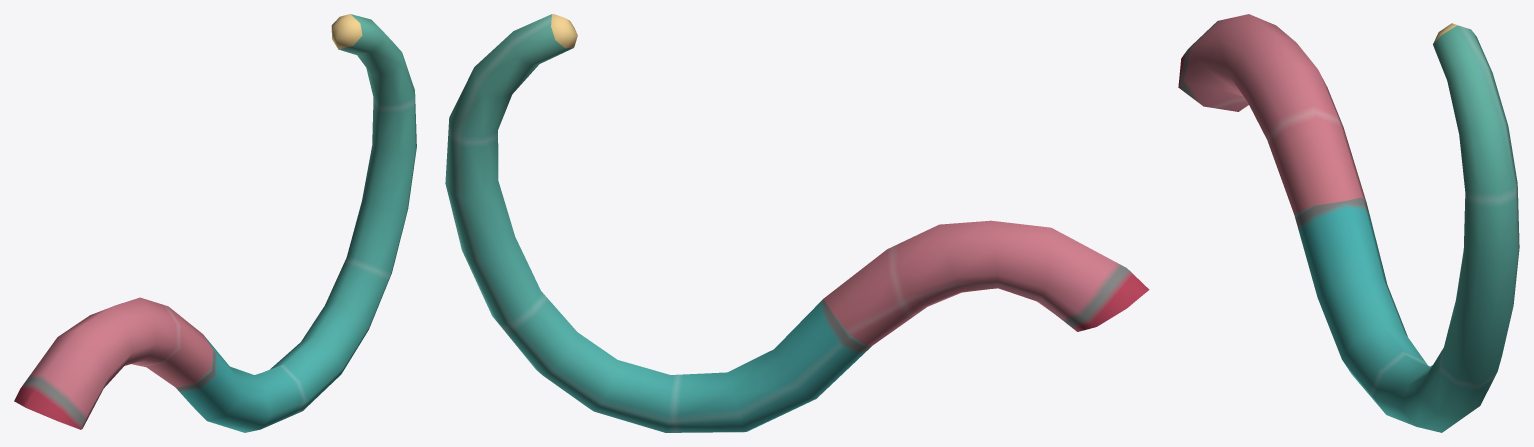
File: MediumVase_SHAT_cell_020.fbx
The picture shows the model from 3 angles, left to right: view 1: azimuth 30°, elevation 25°; view 2: azimuth 150°, elevation 25°; view 3: azimuth 270°, elevation 25°; orthographic projection. The views are drawn at different scales.
Visible parts, largest first — view 1: MediumVase_SHAT_cell_020; view 2: MediumVase_SHAT_cell_020; view 3: MediumVase_SHAT_cell_020.
Part boxes in pixels (x1=…): MediumVase_SHAT_cell_020: x1=14, y1=14, x2=416, y2=432; MediumVase_SHAT_cell_020: x1=445, y1=14, x2=1149, y2=432; MediumVase_SHAT_cell_020: x1=1178, y1=14, x2=1519, y2=432.
Size of the model in its own units: 0.4139 by 0.2867 by 0.1995.
2 materials, 1 textured.
